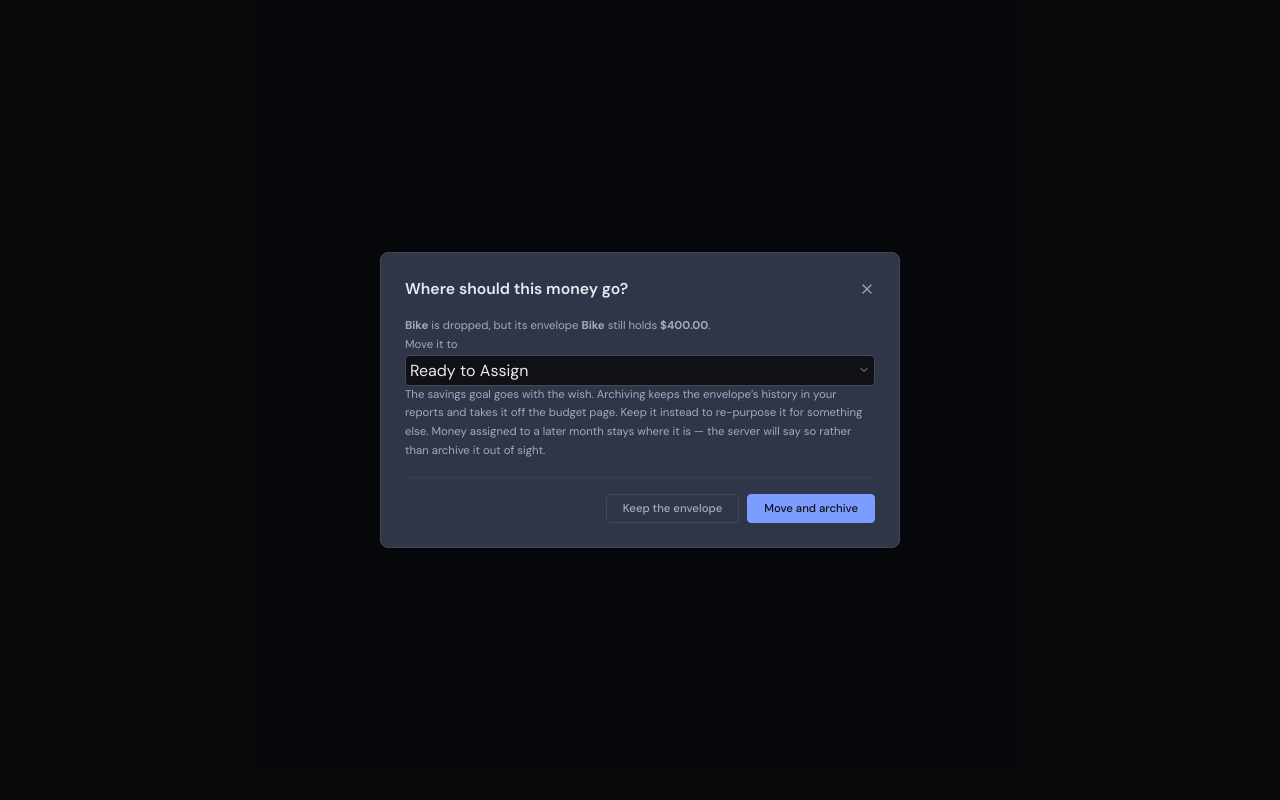
Test: SettleWishDialog › shows the server’s refusal inline rather than losing it to a toast
The width and height of the screenshot is (1280, 800).
Click the button "Move and archive" at (811, 508), box [747, 494, 875, 523]
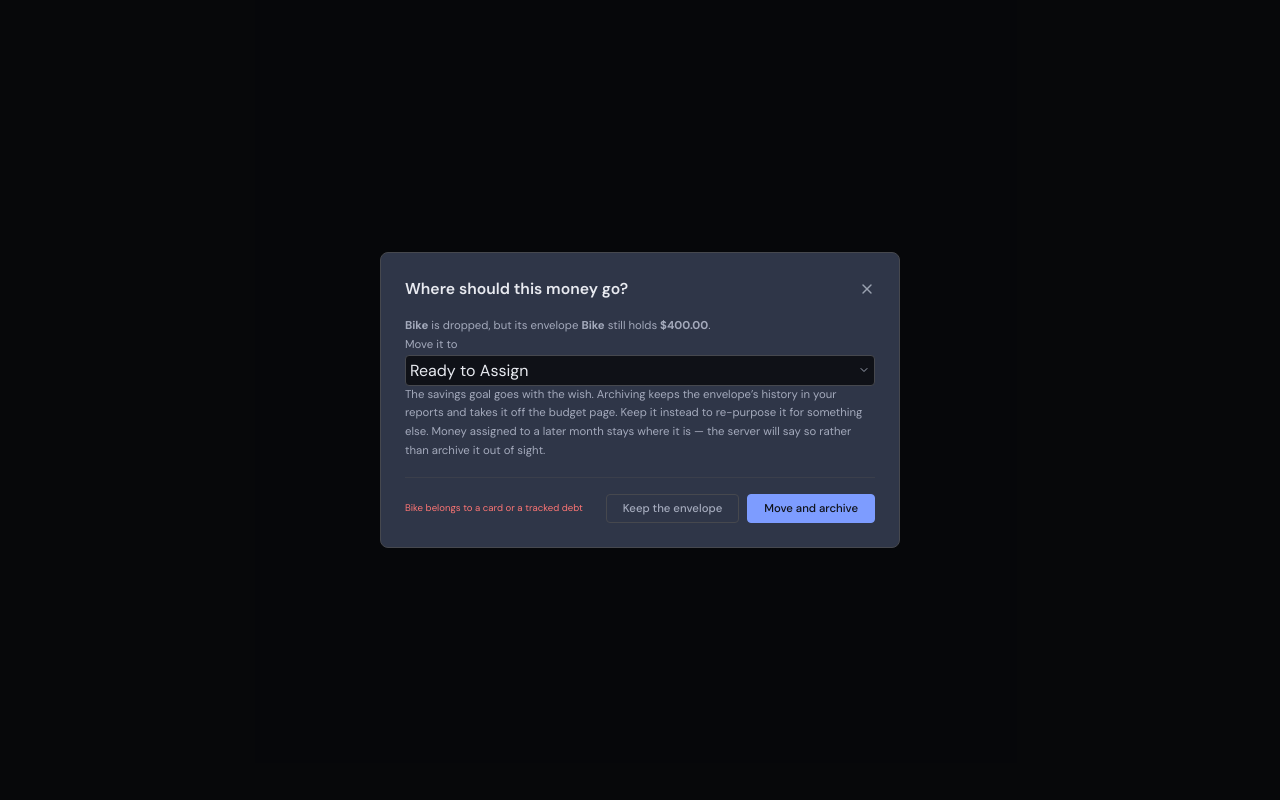
Check: the message shows "card or a tracked debt", box [405, 501, 583, 514]
